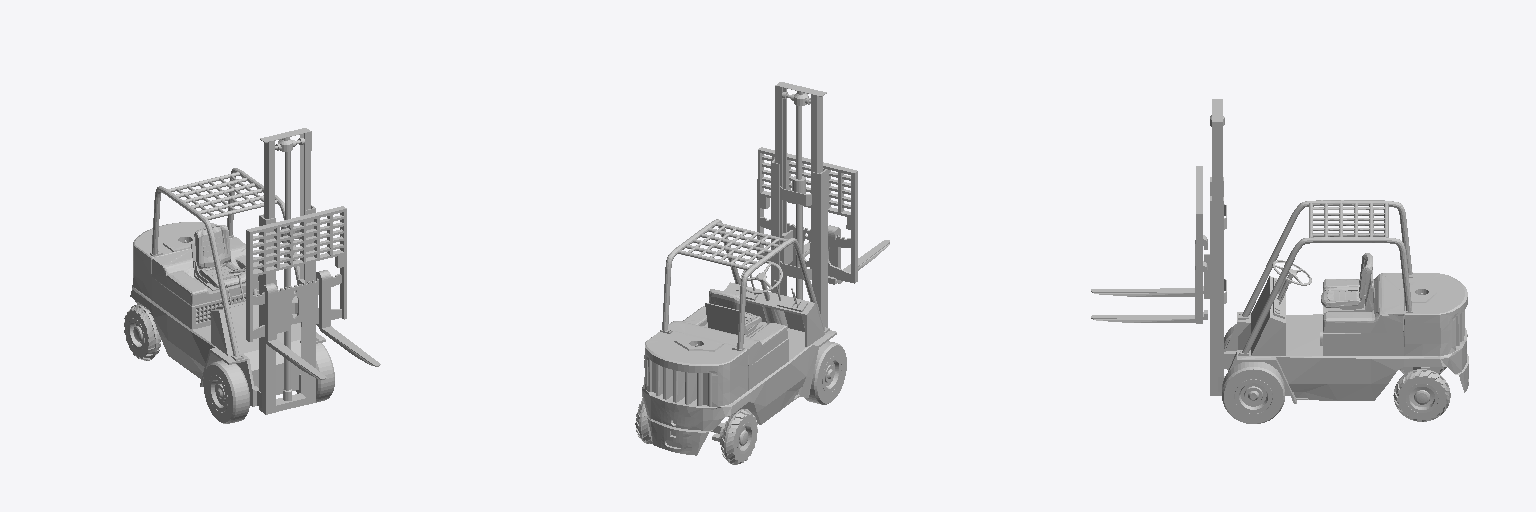
Rendered from hola.obj.
3 renders of one model, left to right at view 1: azimuth 30°, elevation 25°; view 2: azimuth 150°, elevation 25°; view 3: azimuth 270°, elevation 25°, orthographic.
Parts seen in each view (by area): view 1: (null); view 2: (null); view 3: (null).
Part boxes in pixels (x1,y1,x2,y2): (null): (124,128,380,423); (null): (635,82,889,464); (null): (1091,99,1468,423).
Bounding box in the file's own units: 91.84 × 249 × 296.